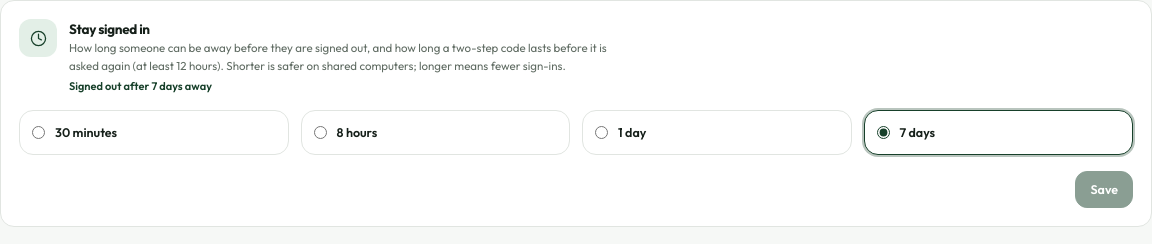
Stay signed in card › starts on 7 days; an admin shortens it
Expected: the text "Signed out after 7 days away" is shown, [69,79,212,93]
Expected: the radio button labelled "7 days" is checked, [876,126,890,139]
Click the radio button labelled "8 hours": point(320, 133) [314,126,326,139]
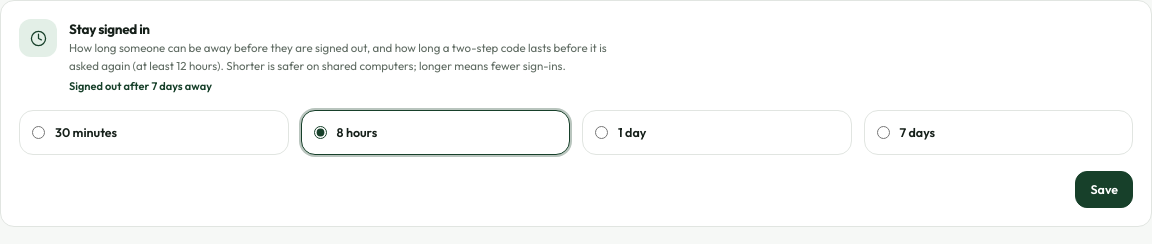
Click the button "Save": point(1104, 189) [1076,171,1133,208]
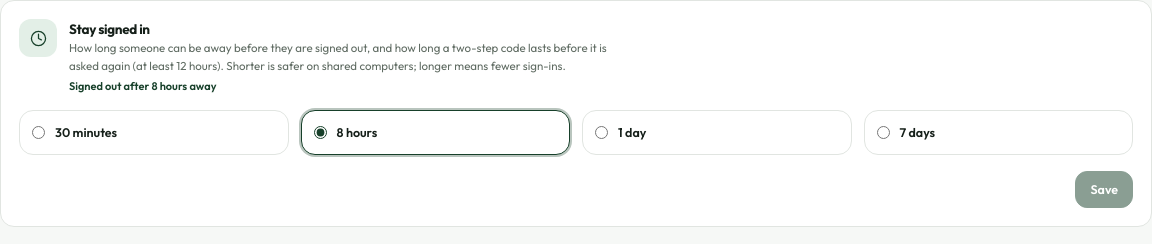
Expected: the text "Signed out after 8 hours away" is shown, [69,79,216,93]
